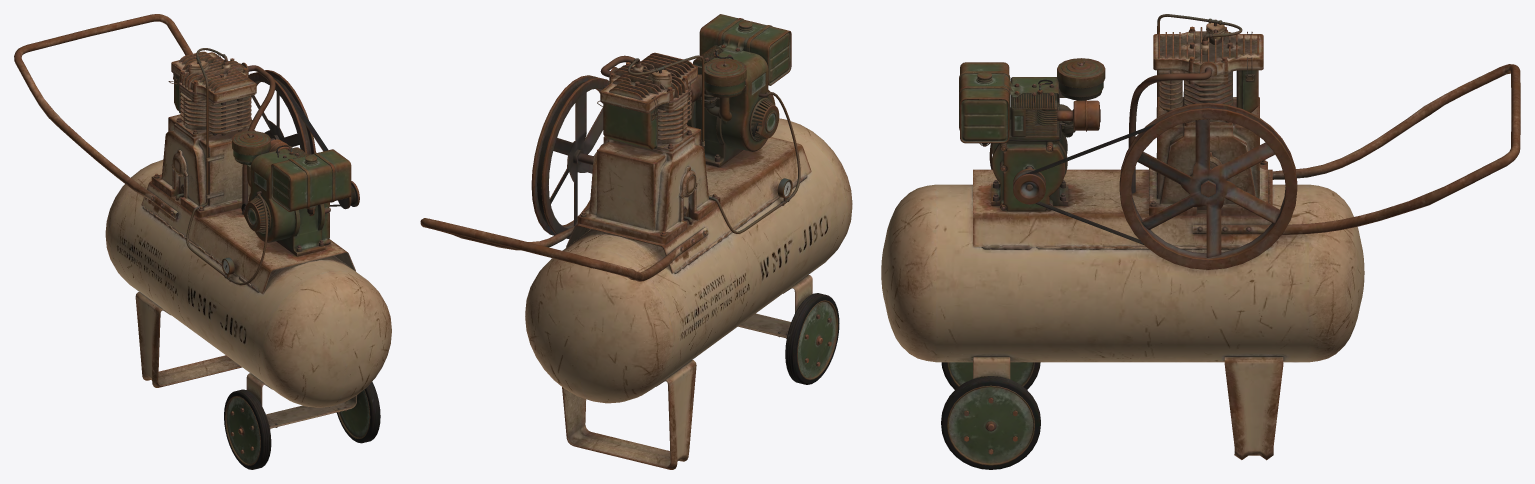
The model's file is old_military_compressor.glb.
3 views of the same model, side by side, from view 1: azimuth 30°, elevation 25°; view 2: azimuth 150°, elevation 25°; view 3: azimuth 270°, elevation 25° (orthographic). The views are drawn at different scales.
Parts seen in each view (by area): view 1: old_military_compressor_lod0; view 2: old_military_compressor_lod0; view 3: old_military_compressor_lod0.
Part boxes in pixels (x1=…): old_military_compressor_lod0: x1=14, y1=14, x2=391, y2=469; old_military_compressor_lod0: x1=420, y1=14, x2=852, y2=469; old_military_compressor_lod0: x1=881, y1=14, x2=1520, y2=469.
Size of the model in its own units: 0.5983 by 1.18 by 1.68.
Materials: 2 (2 with a texture image).
